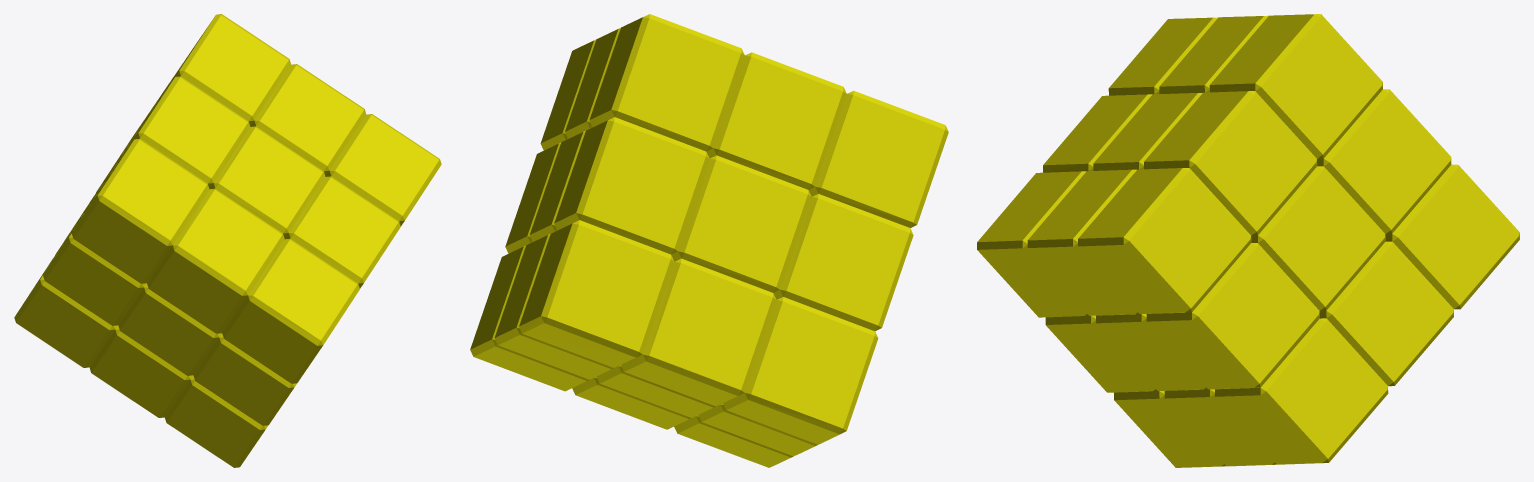
The picture shows the model from 3 angles, left to right: view 1: azimuth 30°, elevation 25°; view 2: azimuth 150°, elevation 25°; view 3: azimuth 270°, elevation 25°; orthographic projection. The views are drawn at different scales.
Bounding box in the file's own units: 0.8287 × 0.98 × 1.01.
